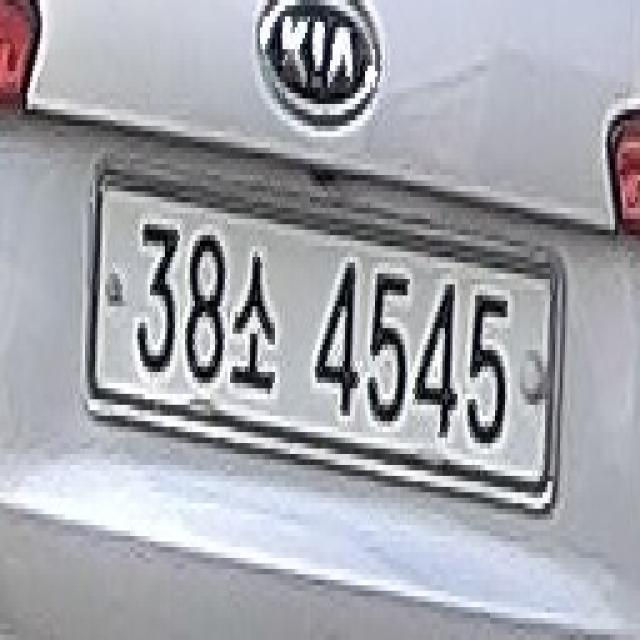3: (135, 214, 183, 378)
4: (410, 268, 460, 443), (310, 246, 360, 416)
5: (362, 252, 408, 426), (462, 284, 510, 448)
8: (185, 230, 227, 383)
license_plate: (88, 175, 560, 509)
so: (228, 235, 278, 394)
